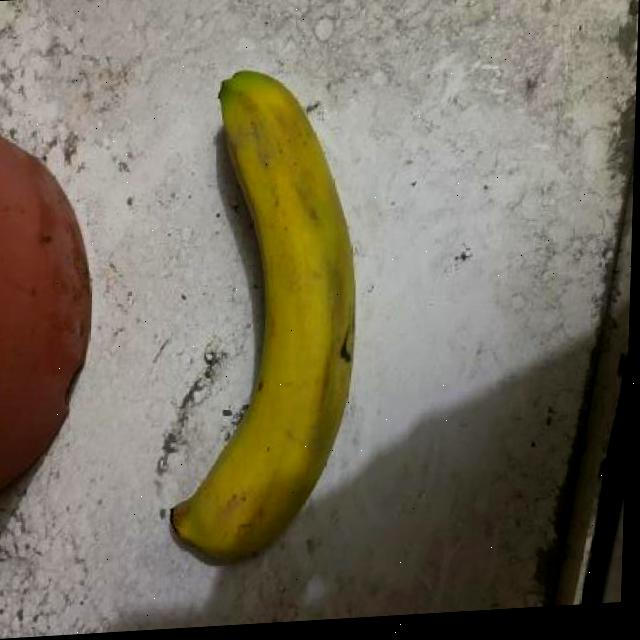banana: (160, 59, 371, 573)
